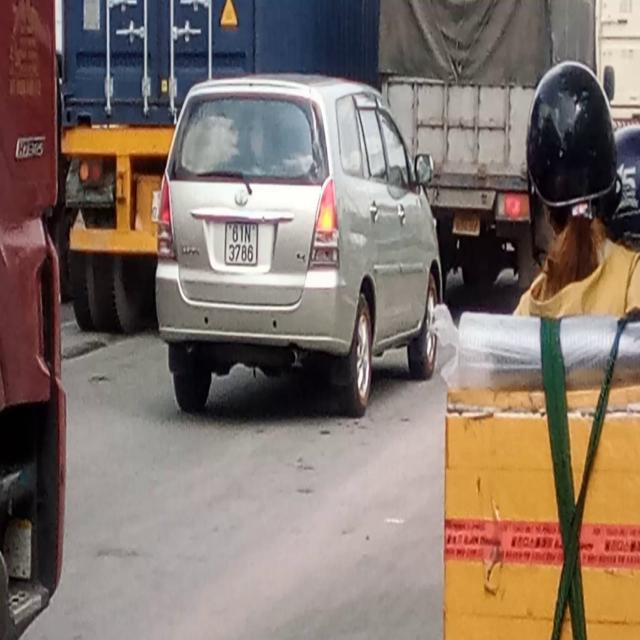bien_trang: (226, 217, 256, 270)
